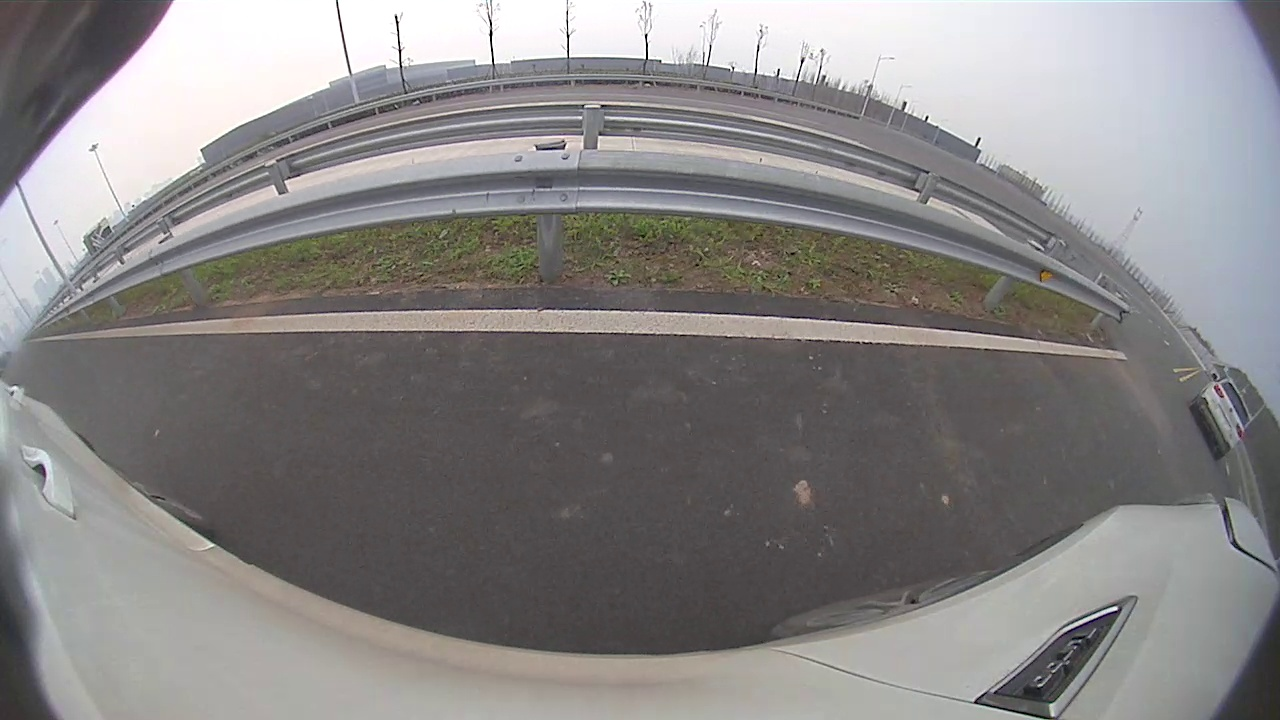car: (1186, 372, 1253, 461)
